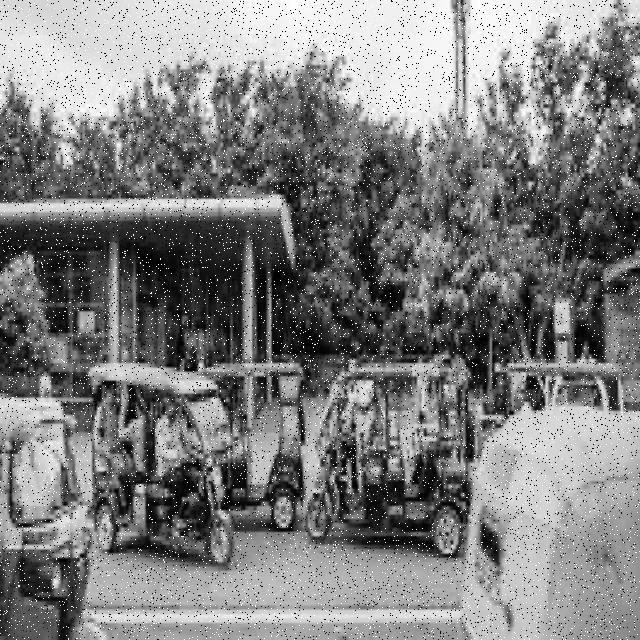Toto: (305, 365, 467, 557), (92, 362, 237, 570)
